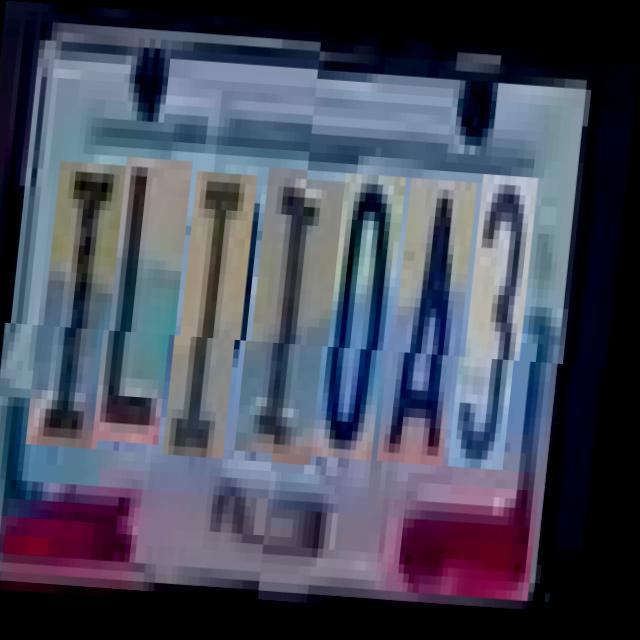3: (463, 166, 541, 462)
A: (392, 172, 481, 458)
I: (248, 172, 348, 460), (40, 169, 134, 457), (177, 177, 260, 464)
L: (106, 164, 196, 450)
O: (326, 168, 409, 454)
